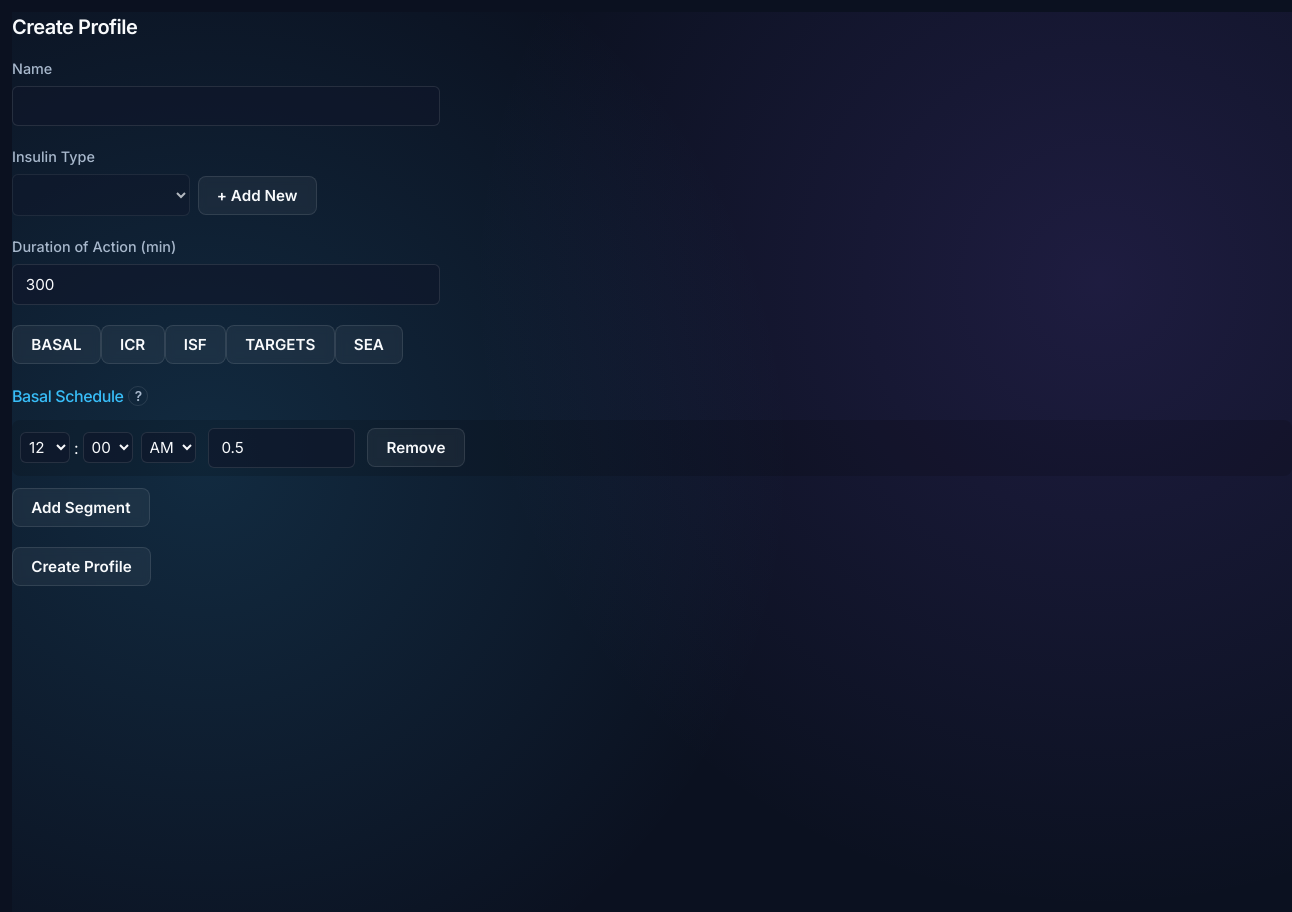
Test: ProfileEditor › clicking ISF tab shows Add ISF Segment button
Step 1. Click the button "ISF" → x=195, y=344, box [164,325,226,364]
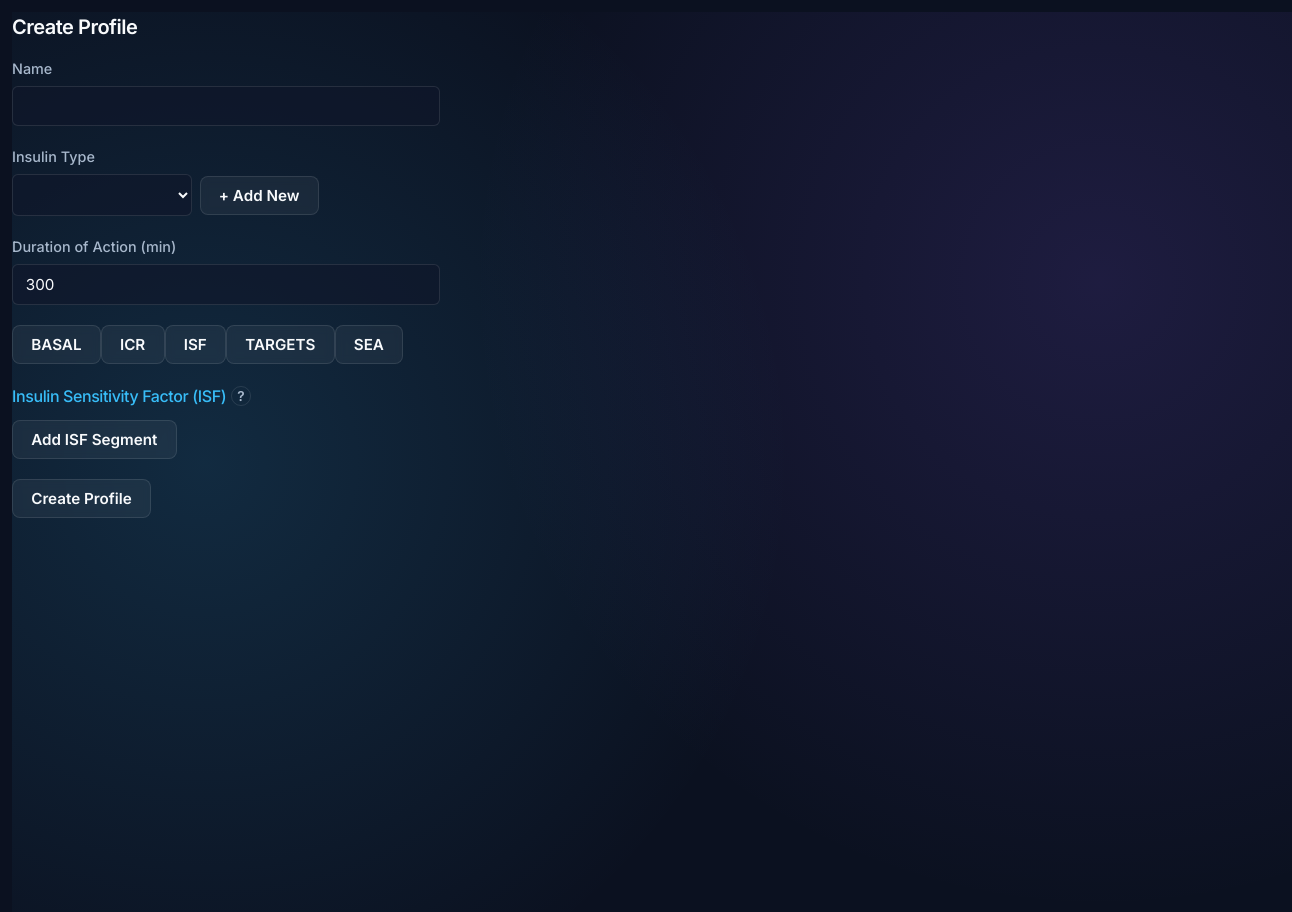
Expected: the button "Add ISF Segment" is shown, [12,420,177,459]
